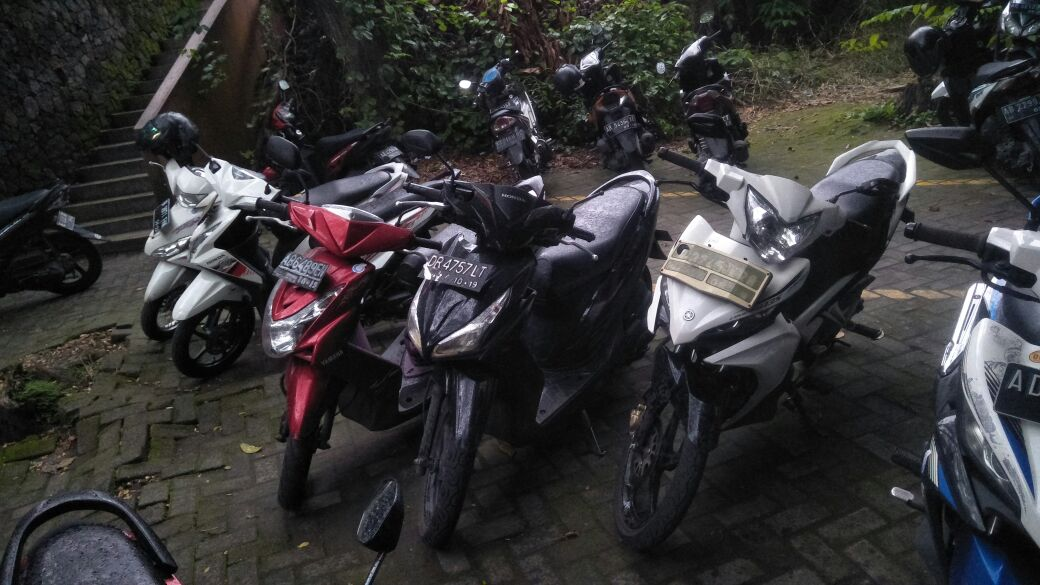plate: (425, 254, 489, 291), (271, 252, 328, 290)
